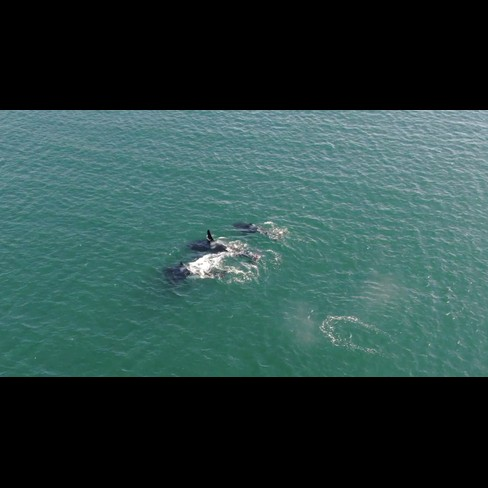orca: (183, 225, 275, 269), (157, 260, 252, 290), (226, 213, 292, 246)
